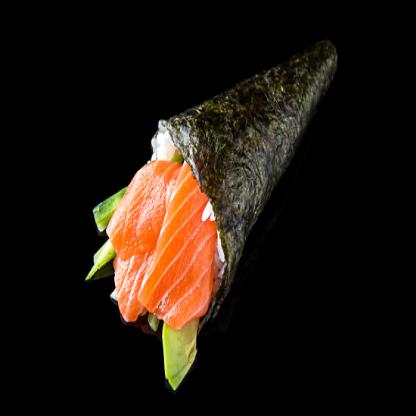sake_hand_roll: (76, 32, 344, 416)
